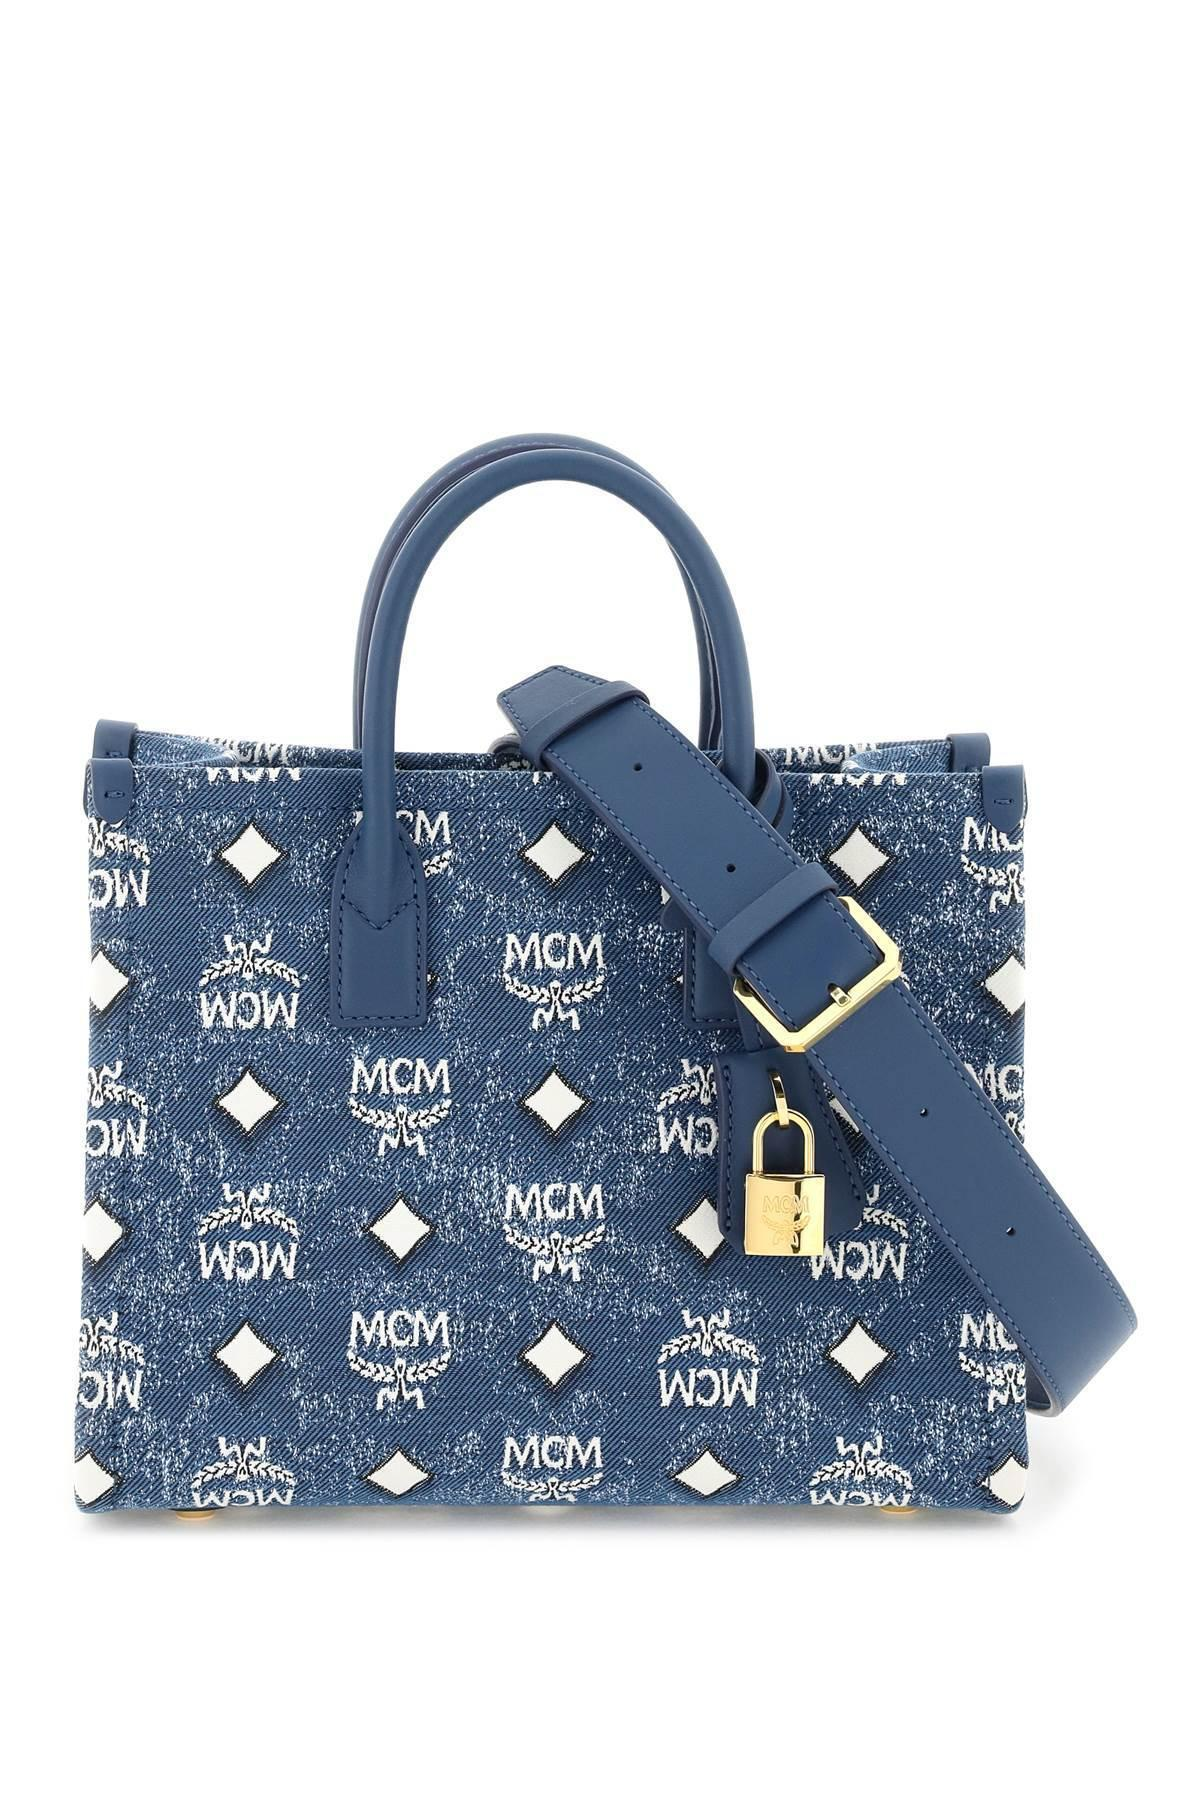MCM: (87, 707, 1031, 1537)
